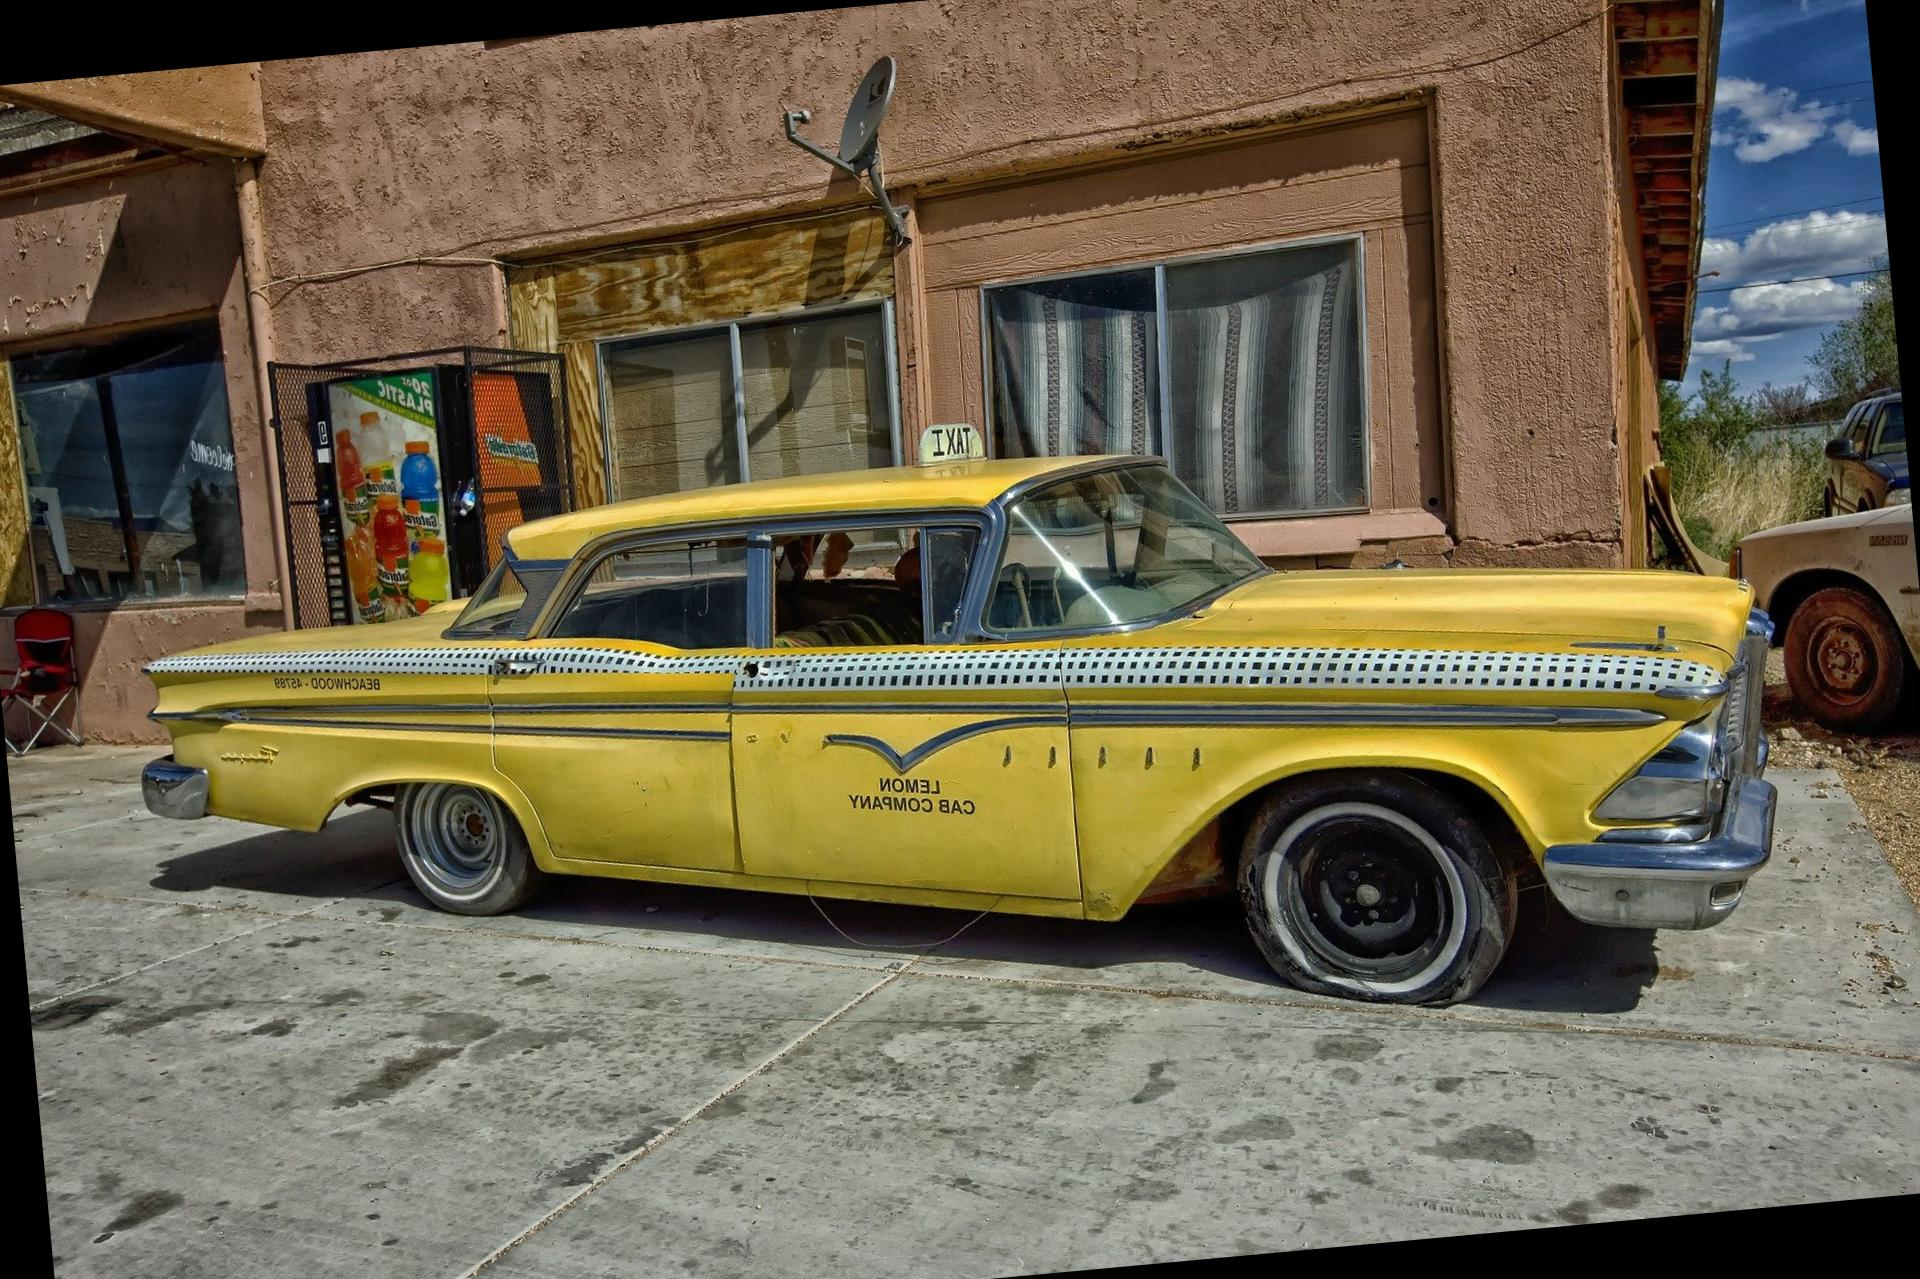taxi: (108, 447, 1820, 1051)
